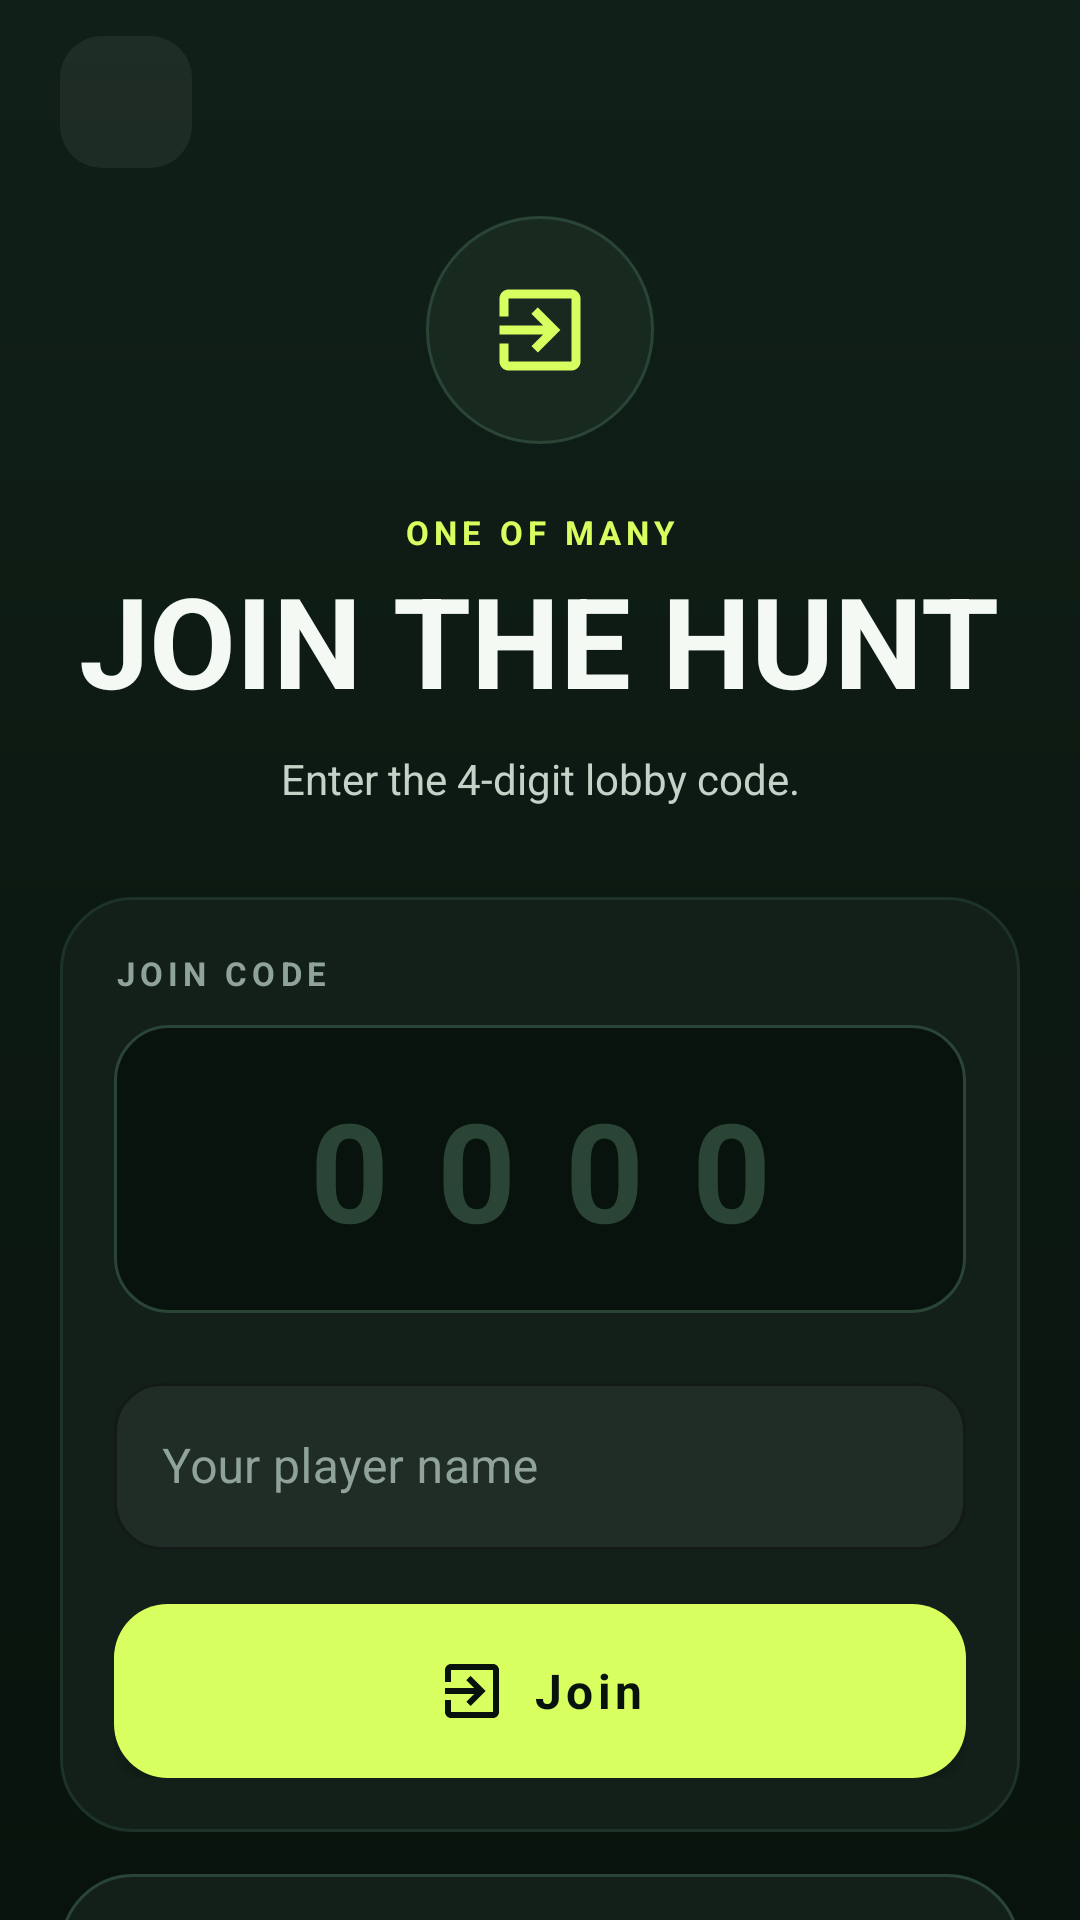

Where to tap for icons on this 1080 × 1920 app screen, as (x=x, y=y):
login: (x=540, y=330)
